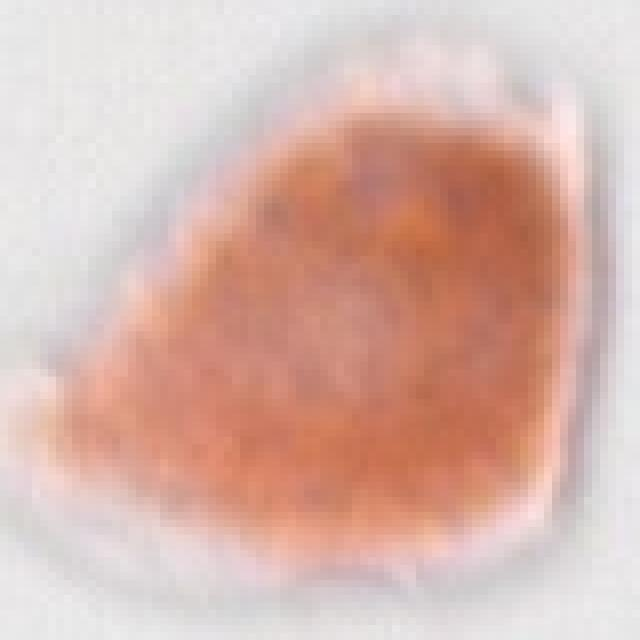cytoplasm: (12, 19, 622, 612)
nucleus: (47, 33, 635, 617)
